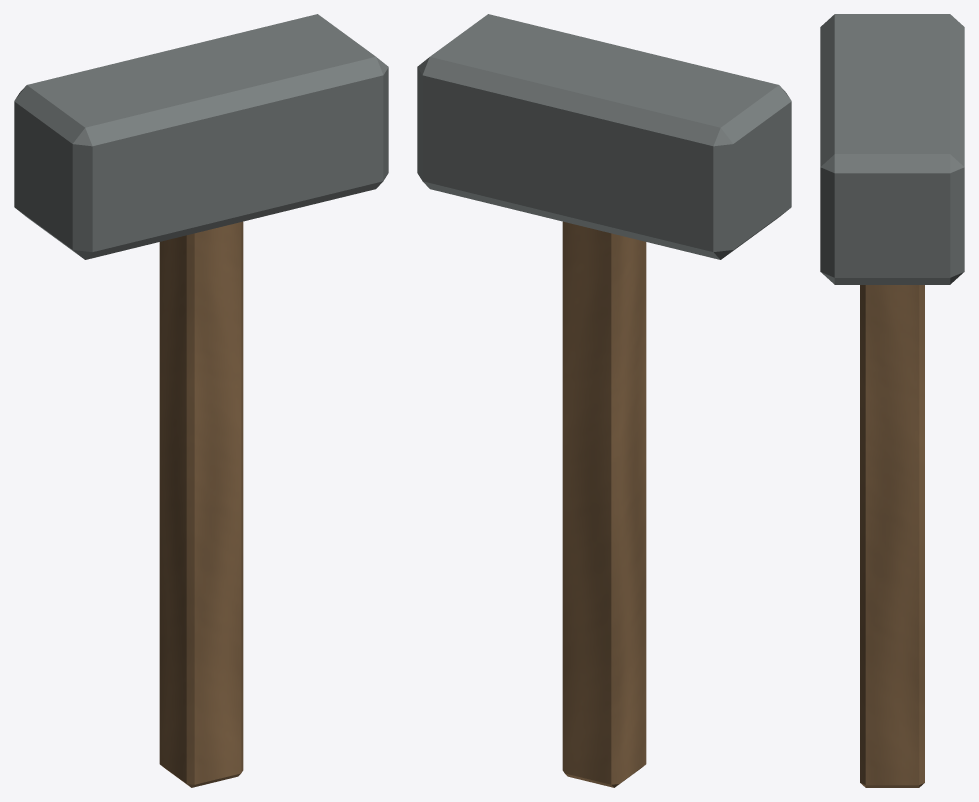
The model's file is hammer.glb.
The picture shows the model from 3 angles, left to right: view 1: azimuth 30°, elevation 25°; view 2: azimuth 150°, elevation 25°; view 3: azimuth 270°, elevation 25°; orthographic projection.
Visible parts, largest first — view 1: hammer; view 2: hammer; view 3: hammer.
Part boxes in pixels (x1,y1,x2,y2): hammer: [14, 14, 388, 787]; hammer: [417, 14, 791, 787]; hammer: [820, 14, 964, 787].
Size of the model in its own units: 0.25 by 0.53 by 0.1.
2 materials, 1 textured.
